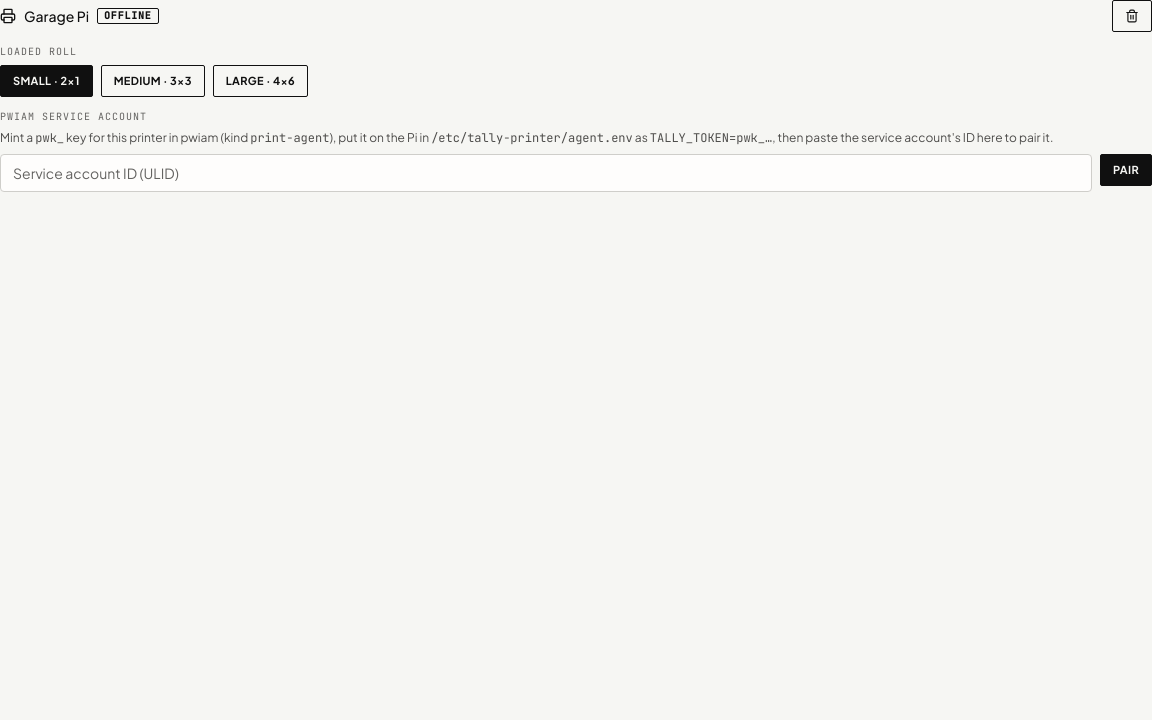
Test: removing a printer asks first and names the irreversibility
Click the button named "Remove Garage Pi" at {"x": 1132, "y": 16}, box [1112,0,1151,32]
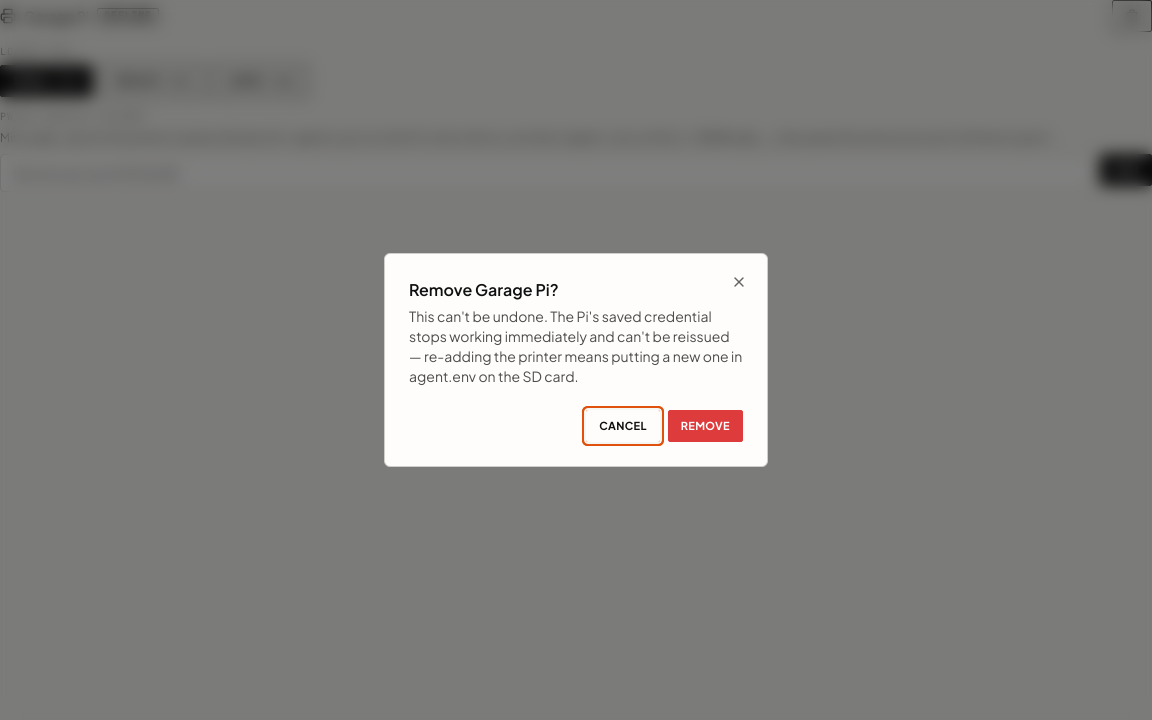
Check: the heading "Remove Garage Pi?" is shown, box [409,279,559,300]
Check: the text "agent.env" is shown, box [409,307,742,385]
